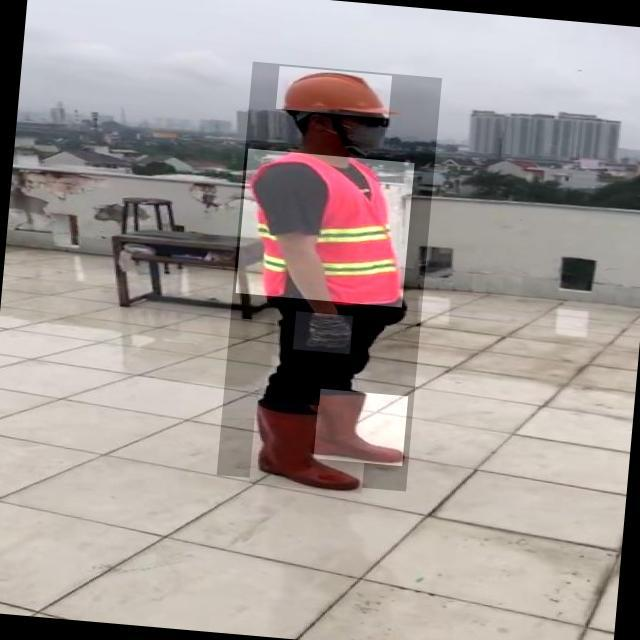Gloves: (293, 311, 353, 354)
Helmet: (276, 66, 392, 119)
Human: (217, 61, 442, 491)
Safety Boot: (249, 400, 370, 494), (314, 389, 408, 466)
Safety Vest: (235, 148, 414, 307)
